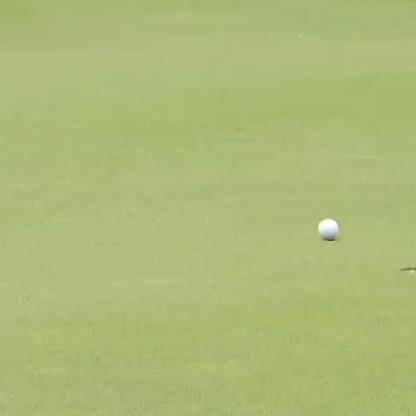golfball: (315, 214, 338, 239)
